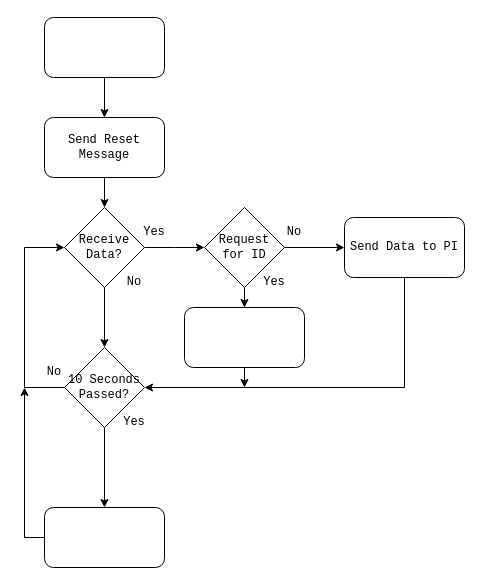
This 482x585 diagram has some shape labels left out. The box of each missing label's shape, as (x1, y1, x2, y2) in pixels:
Assign ID: (184, 306, 304, 368)
Central Node Comes online: (44, 16, 164, 78)
Request Data from Next Node: (44, 506, 164, 568)
